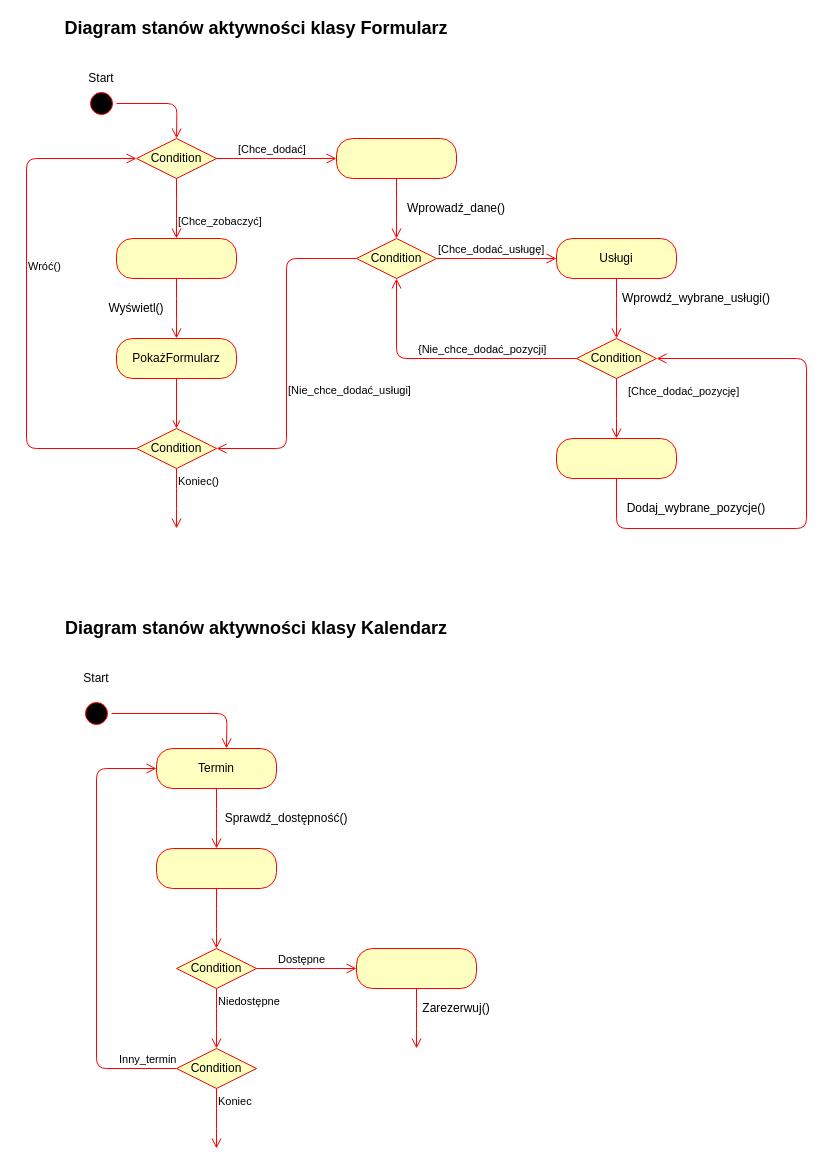
This 834x1176 diagram has some shape labels left out. Each missing label, with the box of its shape:
BazaFormularzy: (116, 238, 236, 278)
Dostępność: (156, 848, 276, 888)
NowyFormularz: (336, 138, 456, 178)
Pozycje: (556, 438, 676, 478)
Rezerwacja: (356, 948, 476, 988)
